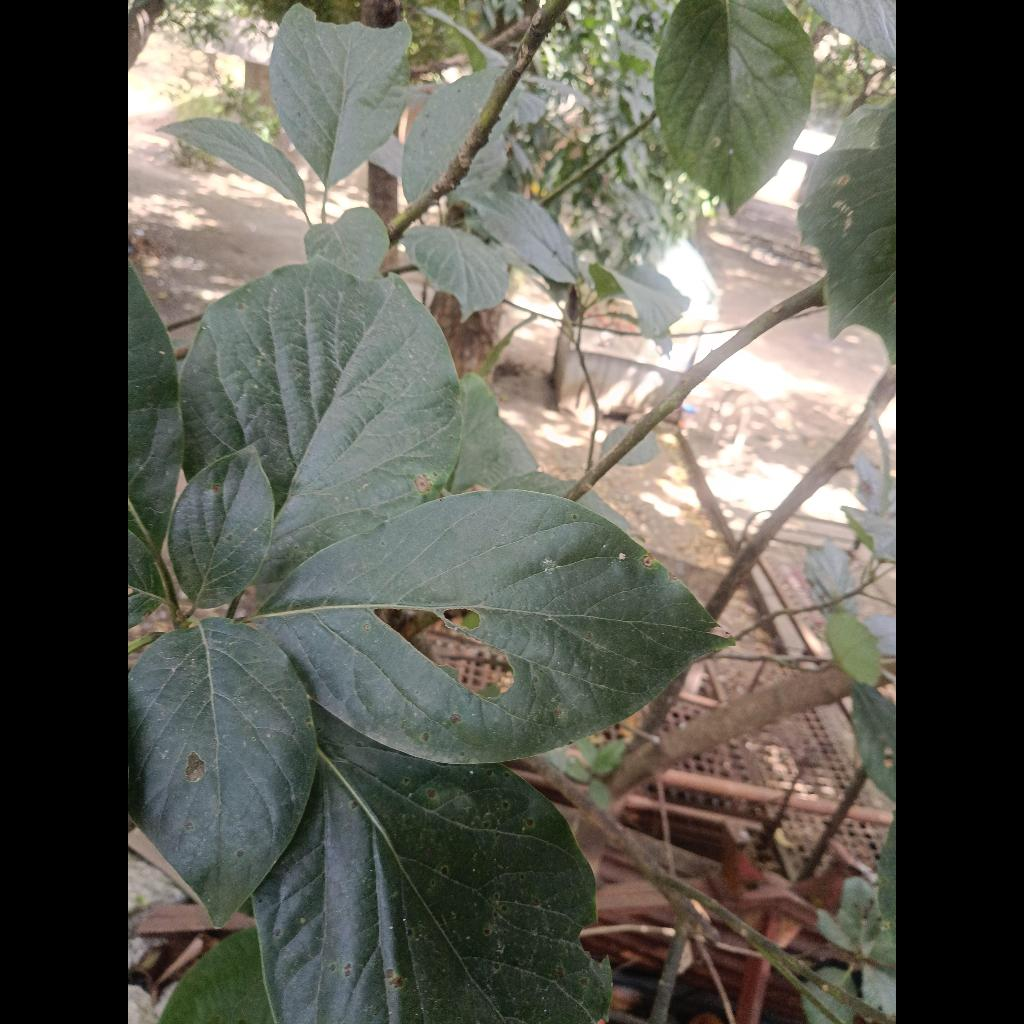plaga: (257, 491, 718, 764)
